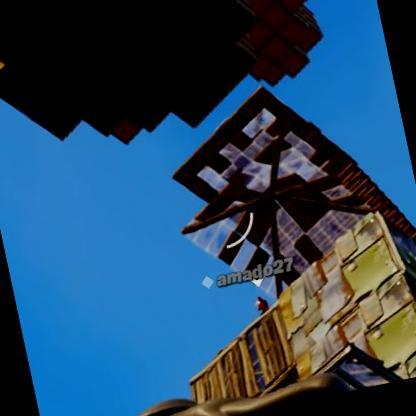person: (252, 294, 270, 314)
